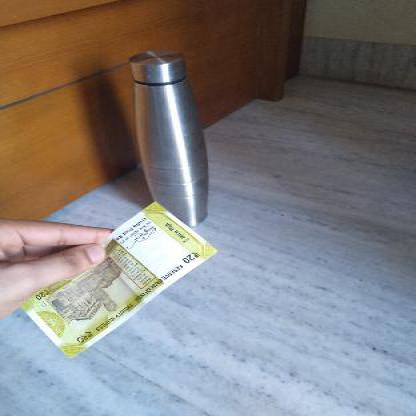New20Back: (17, 202, 215, 360)
